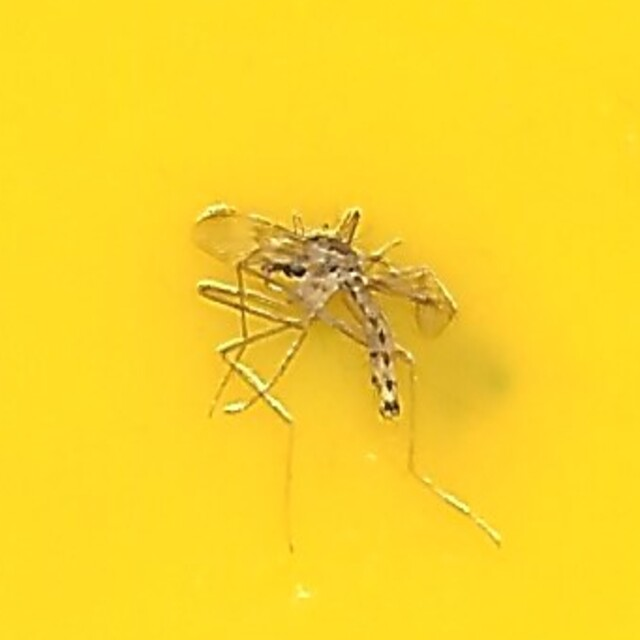Nematocera: (188, 213, 452, 427)
